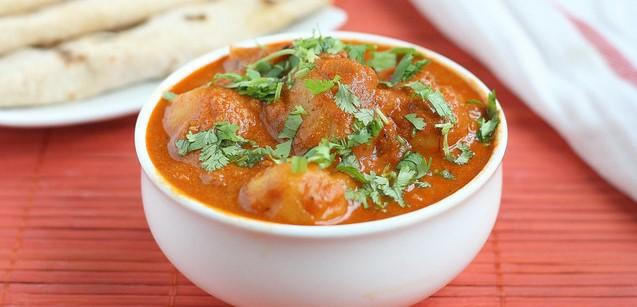DumAloo: (147, 35, 499, 226)
